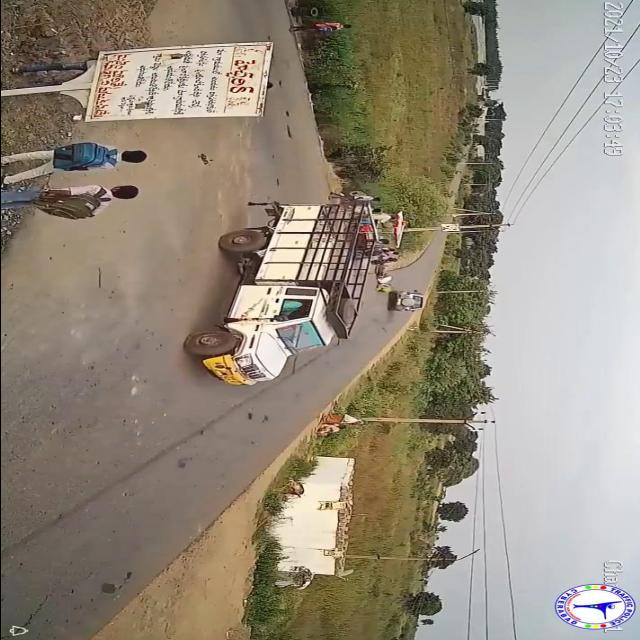accident: (368, 261, 428, 315)
